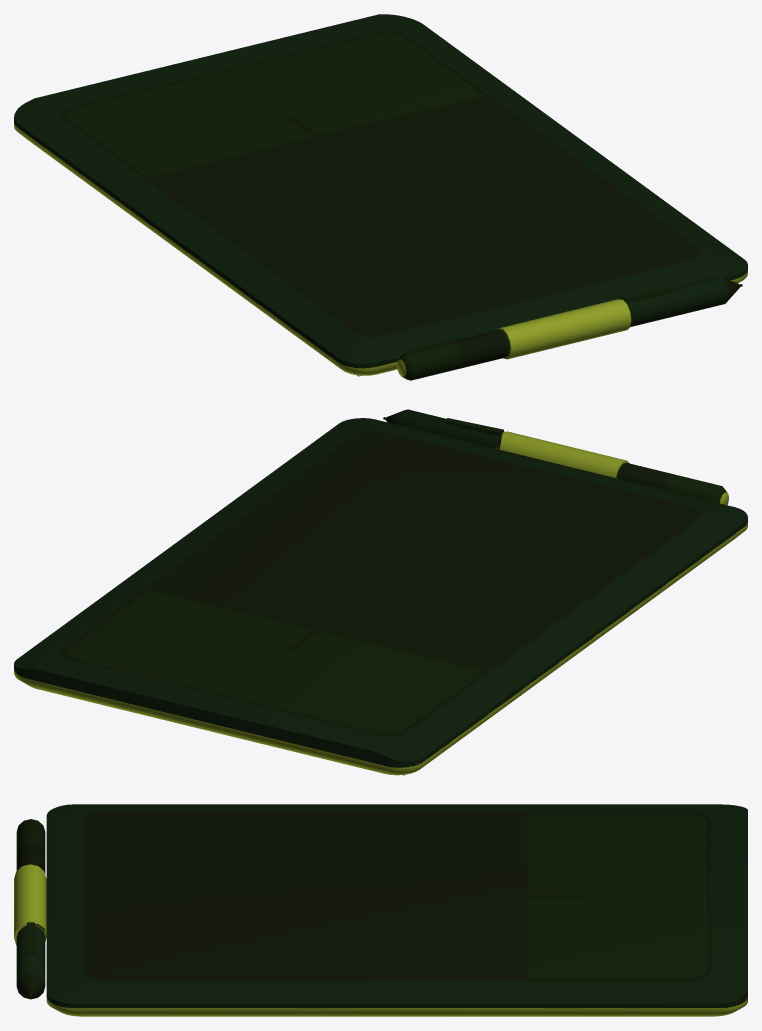
Rendered from DT_upload.fbx.
3 views of the same model, one above another, from view 1: azimuth 30°, elevation 25°; view 2: azimuth 150°, elevation 25°; view 3: azimuth 270°, elevation 25° (orthographic).
Visible parts, largest first — view 1: LP; view 2: LP; view 3: LP.
Boxes of the visible parts, box(x1,y1,x2,y2) form: LP: box(14, 14, 747, 380); LP: box(14, 409, 747, 775); LP: box(14, 804, 747, 1016).
Size of the model in its own units: 200 by 14.56 by 311.
Materials: 1 (1 with a texture image).
